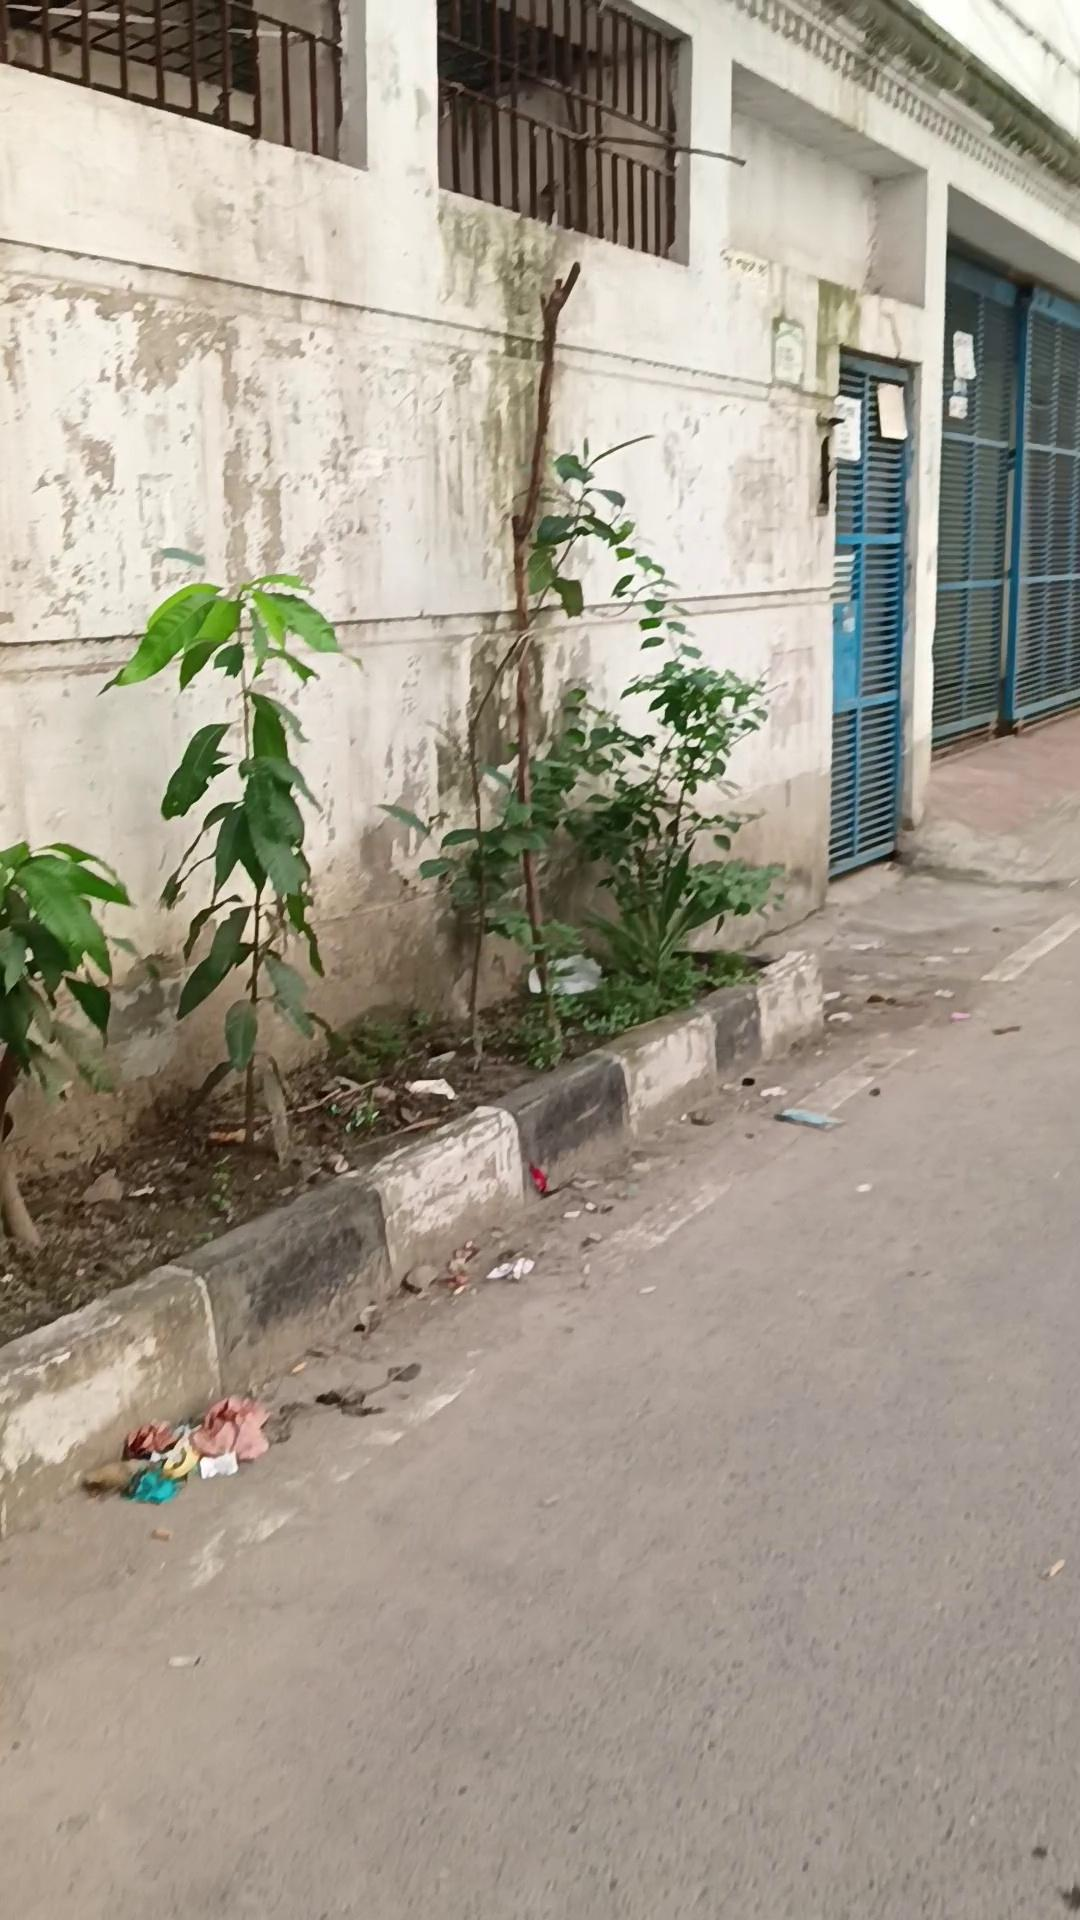Broken-road: (3, 942, 825, 1538)
Garbage: (3, 716, 1077, 1916)
Light-pole: (95, 568, 359, 1156), (0, 836, 131, 1251)
Obstacle: (0, 0, 874, 1197)
